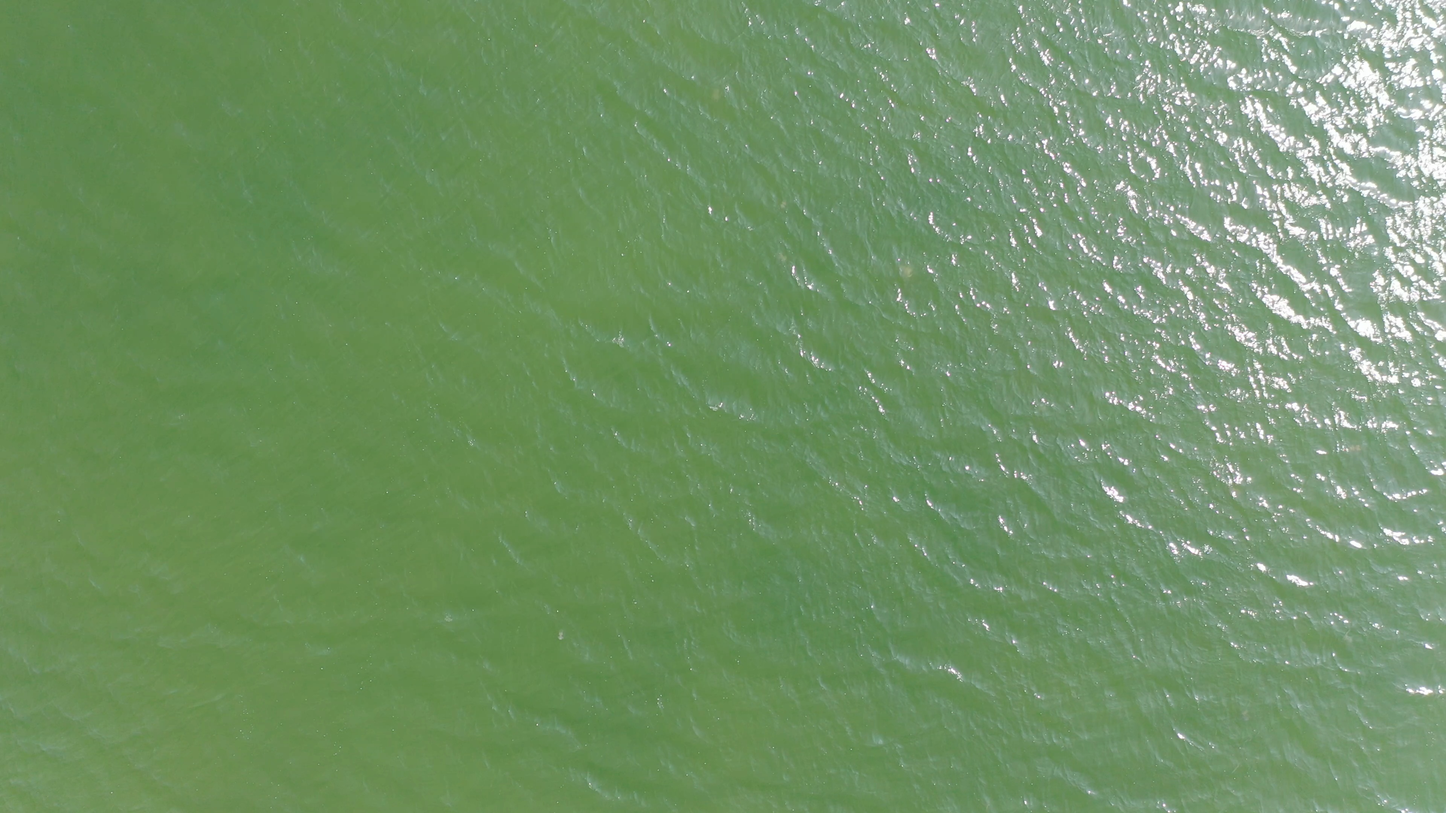meduse: (901, 266, 912, 279), (1231, 489, 1243, 497), (713, 88, 721, 99), (779, 253, 787, 263), (1039, 403, 1046, 413), (780, 201, 787, 208), (558, 632, 564, 640)
